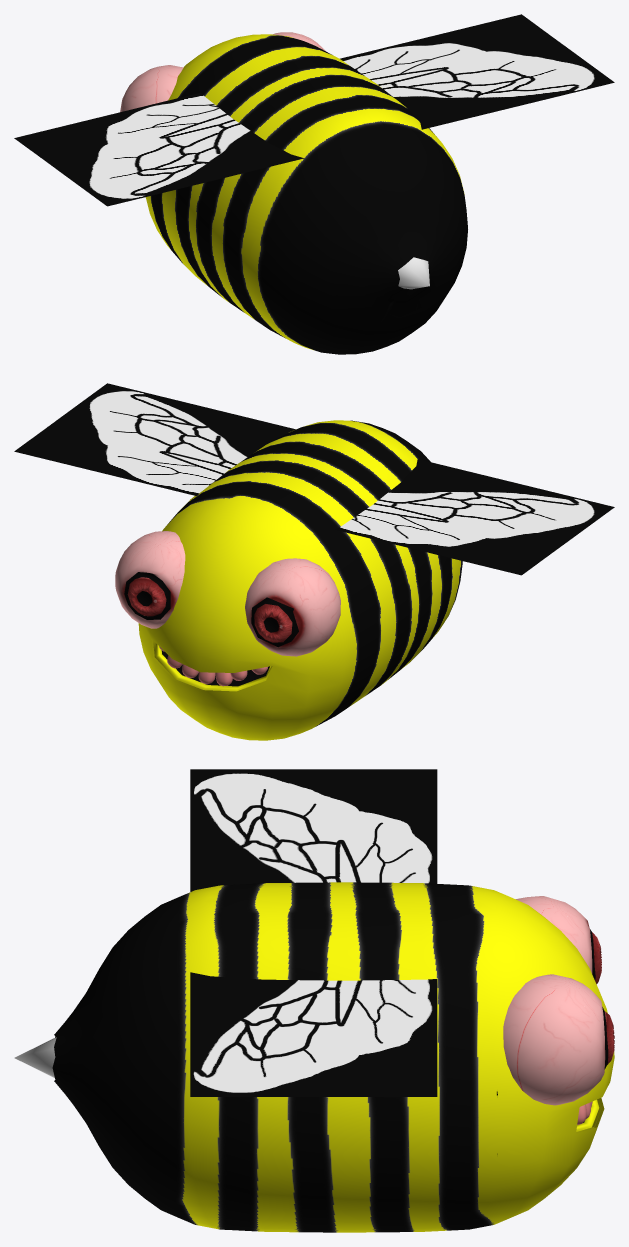
Rendered from bee.fbx.
3 views of the same model, one above another, from view 1: azimuth 30°, elevation 25°; view 2: azimuth 150°, elevation 25°; view 3: azimuth 270°, elevation 25° (orthographic). The views are drawn at different scales.
Parts seen in each view (by area): view 1: Sphere.003, Wing.001, Wing, Cube.001, Sphere.001; view 2: Sphere.003, Wing.001, Wing, Cube.001, Cube.002, Cube.008, Sphere.001; view 3: Sphere.003, Wing, Wing.001, Cube.002, Cube.001, Sphere.001.
Boxes of the visible parts, box(x1,y1,x2,y2) form: Sphere.003: box(145, 34, 467, 354); Wing.001: box(14, 92, 303, 206); Wing: box(340, 14, 614, 129); Cube.001: box(120, 65, 183, 112); Sphere.001: box(398, 257, 429, 290); Sphere.003: box(138, 420, 462, 740); Wing.001: box(335, 459, 614, 575); Wing: box(14, 383, 295, 495); Cube.001: box(245, 558, 340, 656); Cube.002: box(115, 531, 185, 628); Cube.008: box(159, 646, 267, 686); Sphere.001: box(153, 640, 272, 691); Sphere.003: box(52, 882, 614, 1232); Wing: box(190, 972, 437, 1096); Wing.001: box(190, 769, 437, 891); Cube.002: box(503, 974, 614, 1105); Cube.001: box(516, 896, 601, 984); Sphere.001: box(14, 1037, 599, 1131).
Size of the model in its own units: 450 by 204 by 349.
